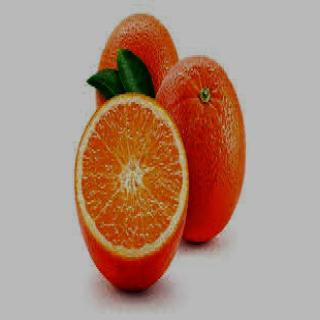orange: (69, 92, 196, 304), (144, 55, 254, 253), (72, 0, 182, 167)
